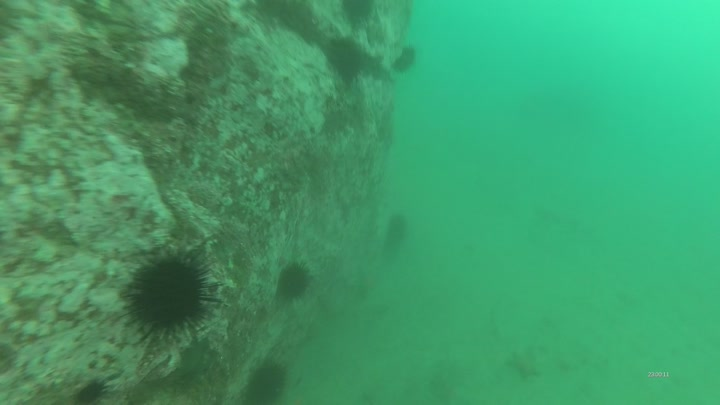echinus: (121, 249, 220, 340), (245, 359, 294, 405), (273, 258, 317, 303), (378, 213, 411, 247), (73, 376, 111, 405), (384, 49, 421, 77)
starfish: (508, 348, 546, 382)
